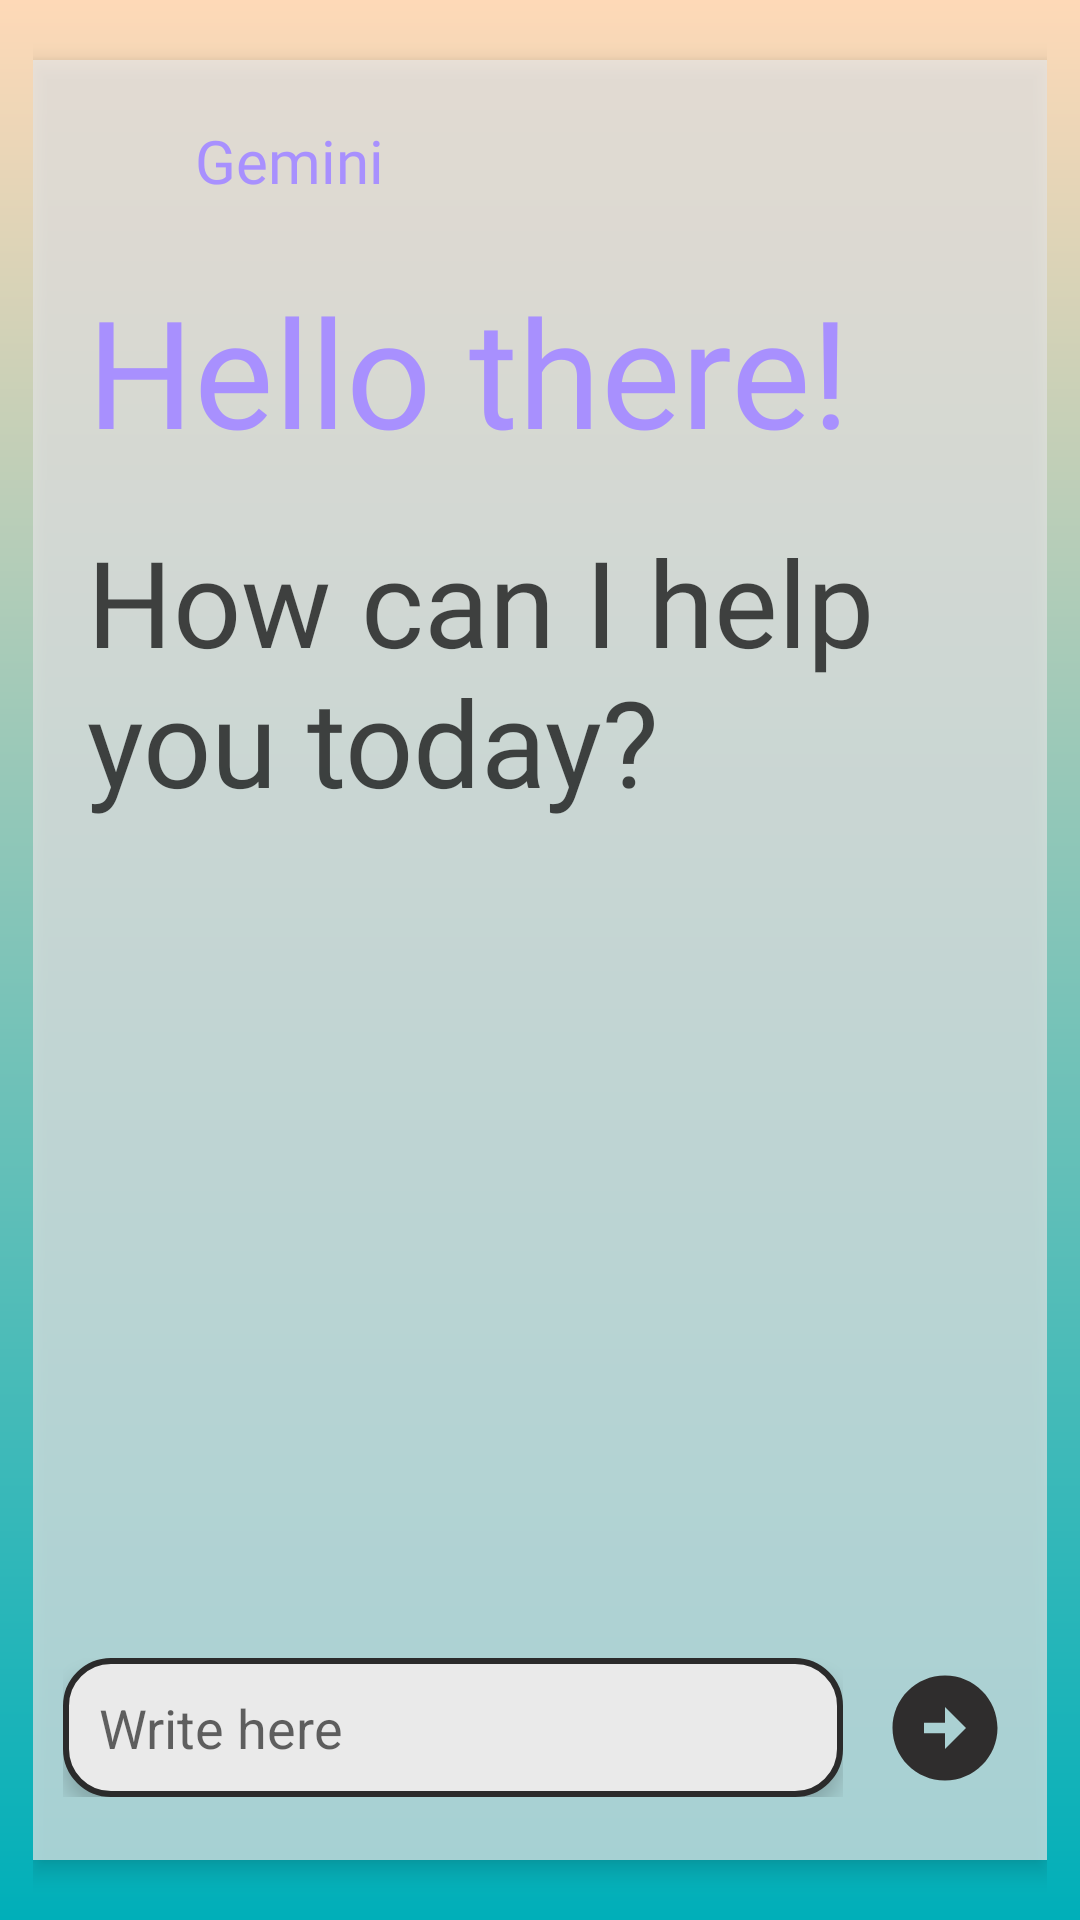

Screen size 1080 × 1920. Icon name, then its center in pixels as [x,y]:
arrow circle right: [945,1728]
